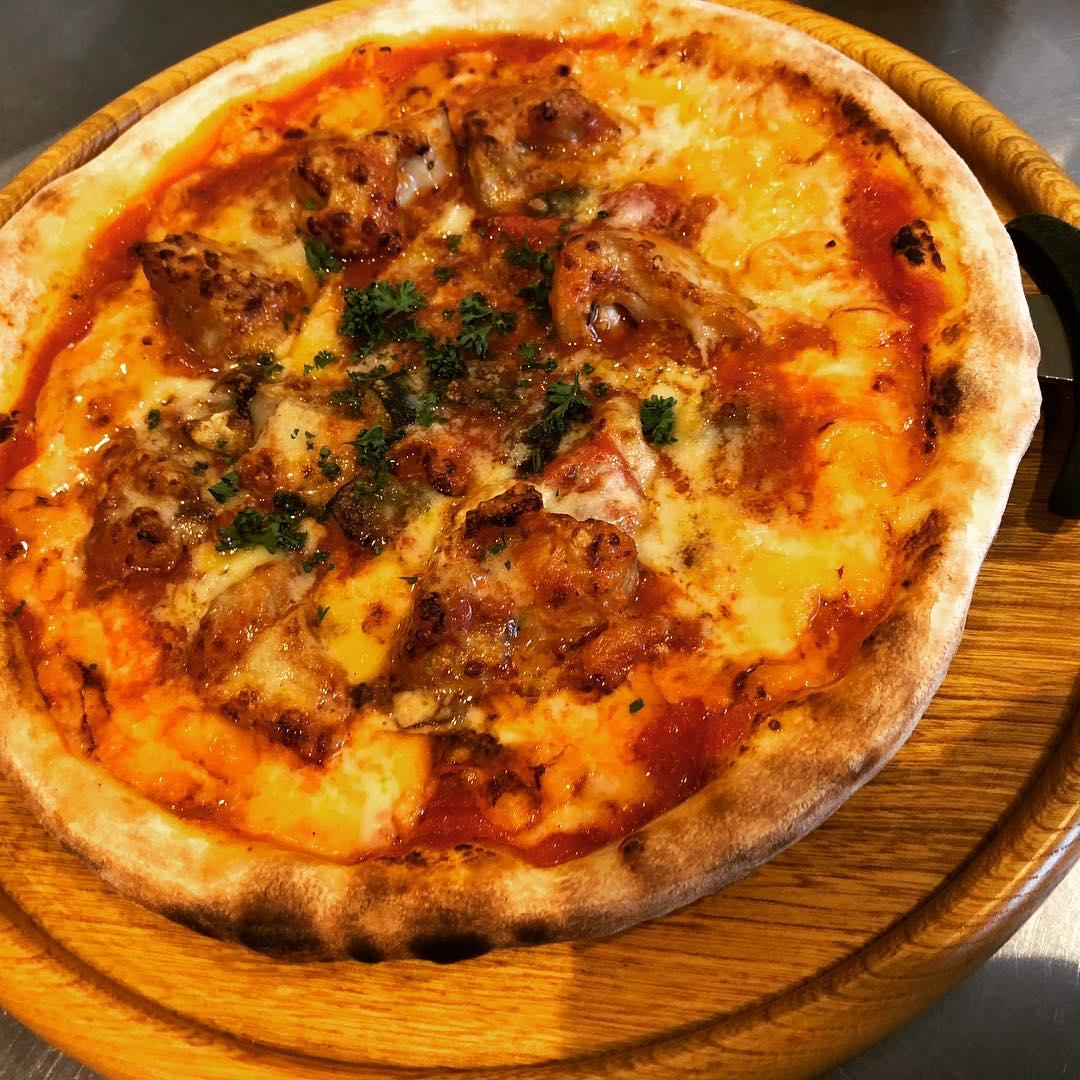Chicken: (430, 485, 655, 632), (221, 565, 409, 721), (548, 220, 765, 355), (235, 365, 409, 503), (456, 87, 652, 208), (116, 227, 301, 353), (109, 418, 244, 560), (288, 116, 409, 256)
Pizza: (0, 0, 1044, 964)
